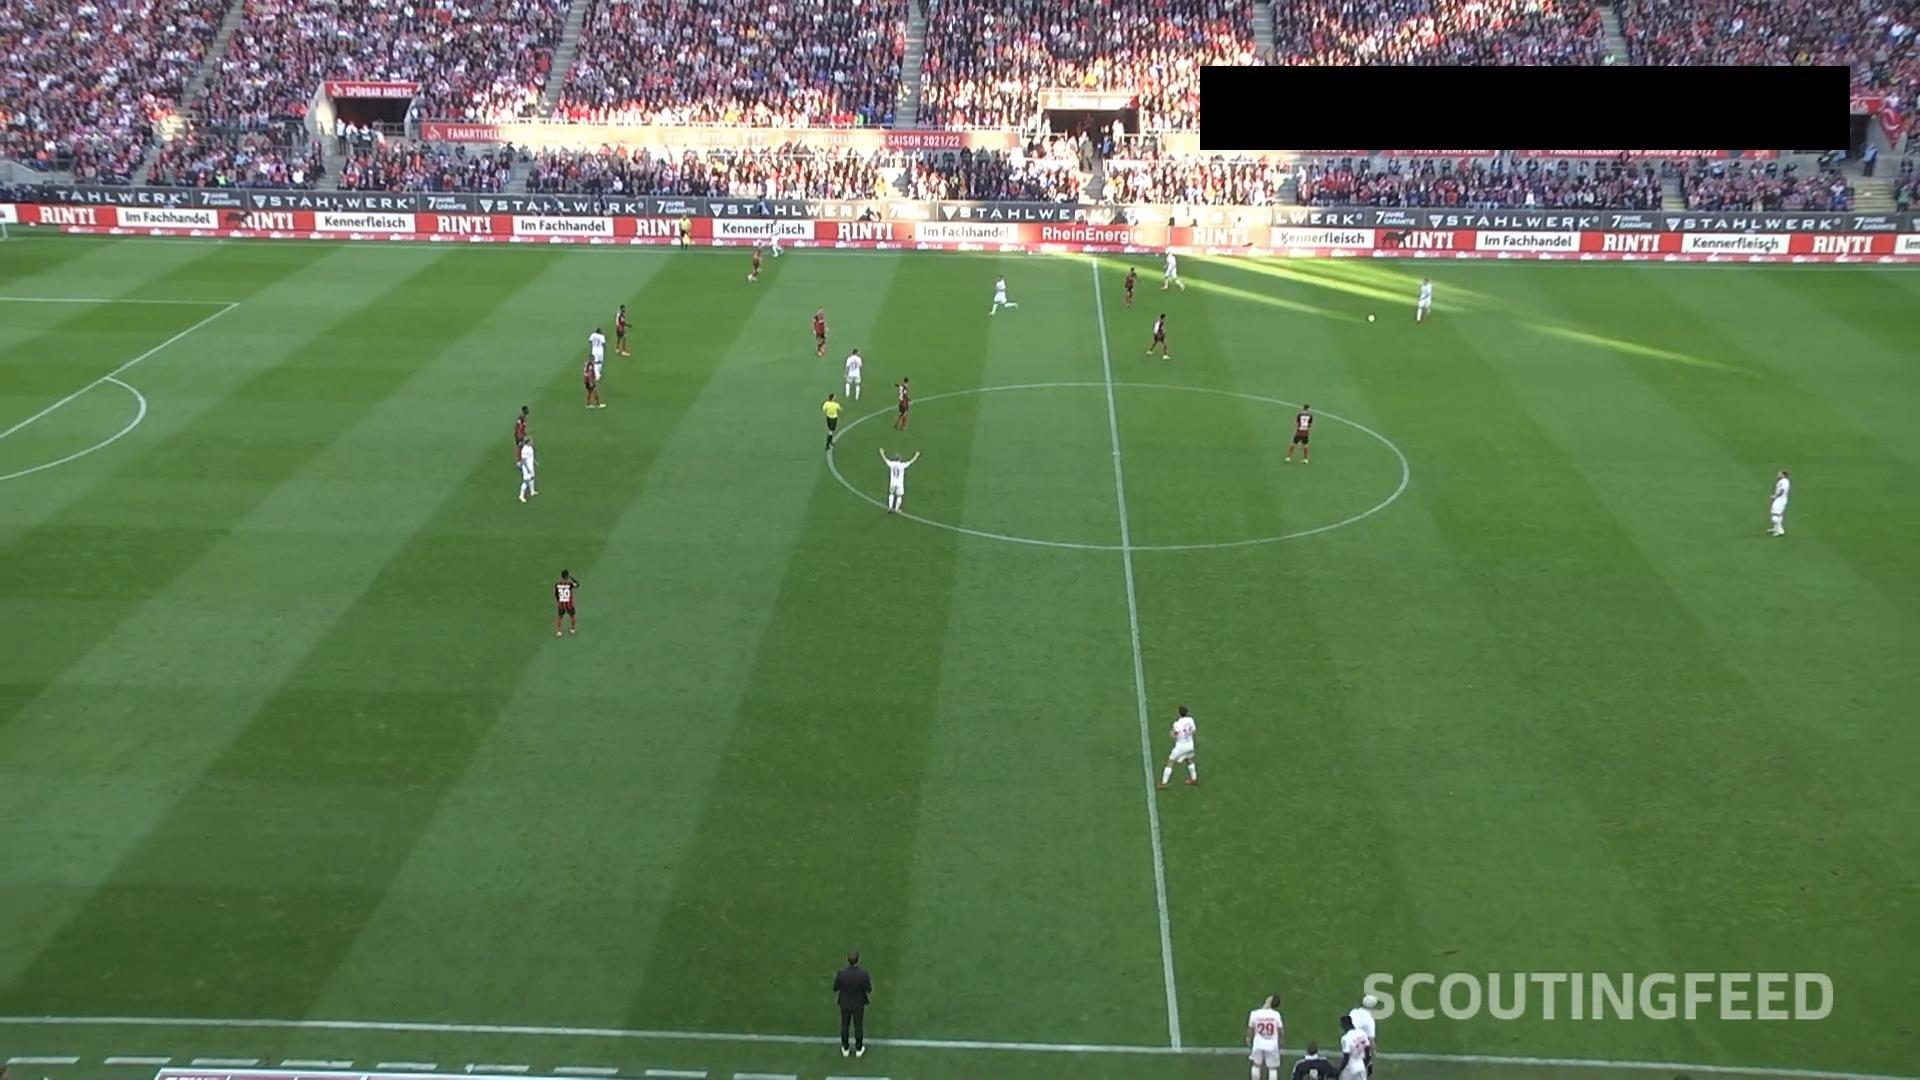ball: (1367, 314, 1375, 323)
